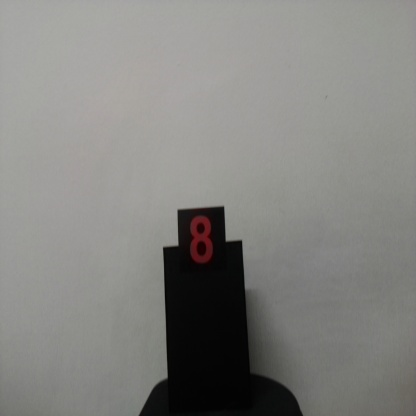id_8: (178, 211, 226, 280)
